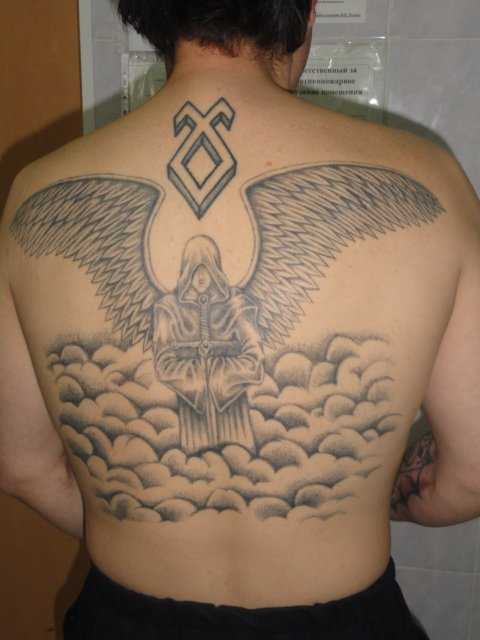tatu1_angel: (7, 154, 448, 527)
